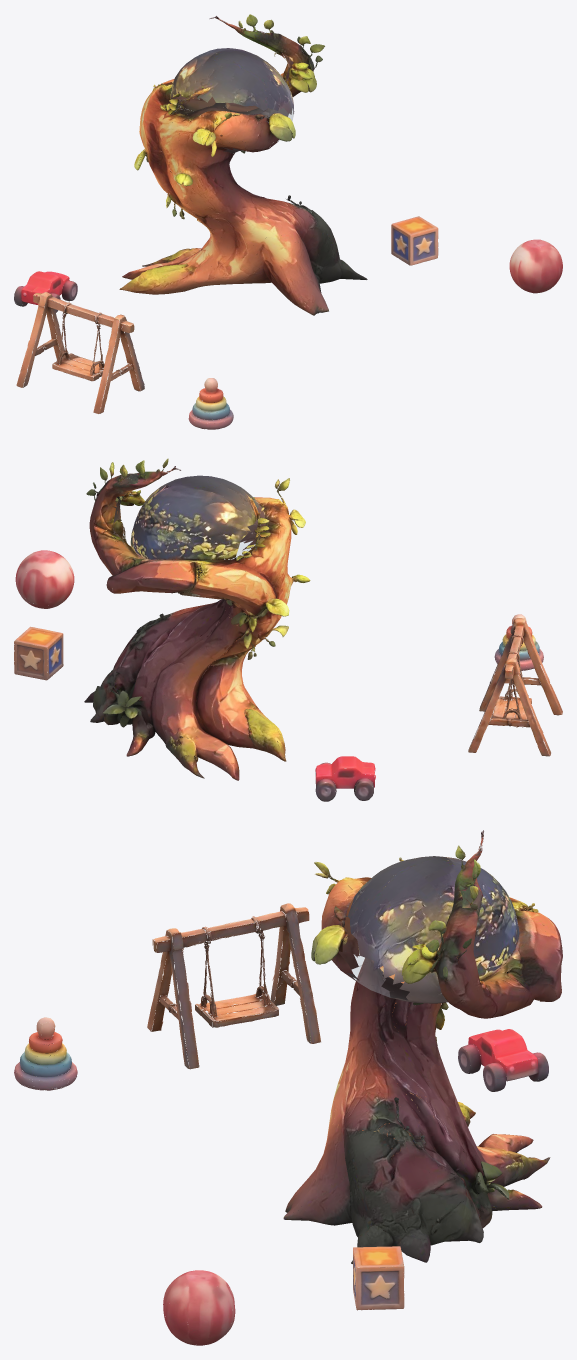
File: ambiente.glb
3 views of the same model, one above another, from view 1: azimuth 30°, elevation 25°; view 2: azimuth 150°, elevation 25°; view 3: azimuth 270°, elevation 25° (orthographic). The views are drawn at different scales.
Visible parts, largest first — view 1: arvore, balanco, bola, bloco, argolas, carrinho, assento; view 2: arvore, balanco, bola, bloco, carrinho, assento, argolas; view 3: arvore, balanco, bola, carrinho, bloco, argolas, assento.
Boxes of the visible parts, x1,y1,x2,y2 form: arvore: (119,14,367,315); balanco: (16,292,144,413); bola: (509,239,562,293); bloco: (391,216,438,265); argolas: (188,378,233,429); carrinho: (14,271,77,313); assento: (52,312,110,381); arvore: (84,458,310,780); balanco: (468,618,562,756); bola: (15,550,74,608); bloco: (14,626,63,680); carrinho: (315,756,375,801); assento: (491,635,531,725); argolas: (494,614,543,670); arvore: (283,830,562,1263); balanco: (147,903,320,1069); bola: (163,1270,235,1345); carrinho: (458,1029,548,1091); bloco: (353,1246,404,1310); argolas: (14,1017,77,1090); assento: (186,930,278,1027).
Size of the model in its own units: 10.81 by 5.19 by 7.1.
7 materials, 6 textured.
